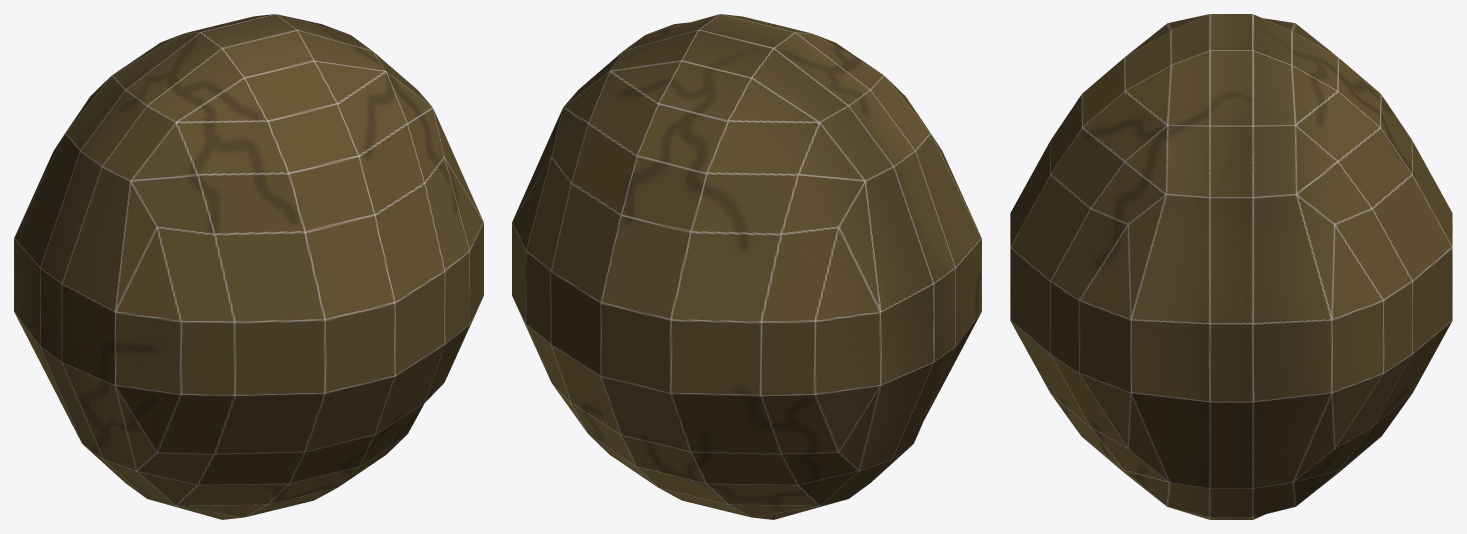
File: Falling_Boulder.fbx
3 renders of one model, left to right at view 1: azimuth 30°, elevation 25°; view 2: azimuth 150°, elevation 25°; view 3: azimuth 270°, elevation 25°, orthographic.
Visible parts, largest first — view 1: pCube4; view 2: pCube4; view 3: pCube4.
Part boxes in pixels (x1,y1,x2,y2): pCube4: [14, 14, 483, 519]; pCube4: [512, 14, 981, 519]; pCube4: [1010, 14, 1452, 519].
Bounding box in the file's own units: 11.3 × 12.87 × 11.
Materials: 1 (1 with a texture image).
